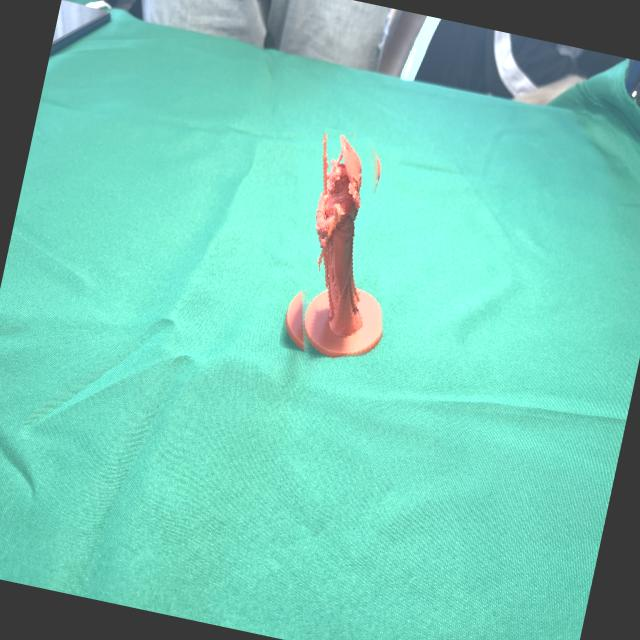amon: (264, 122, 416, 368)
